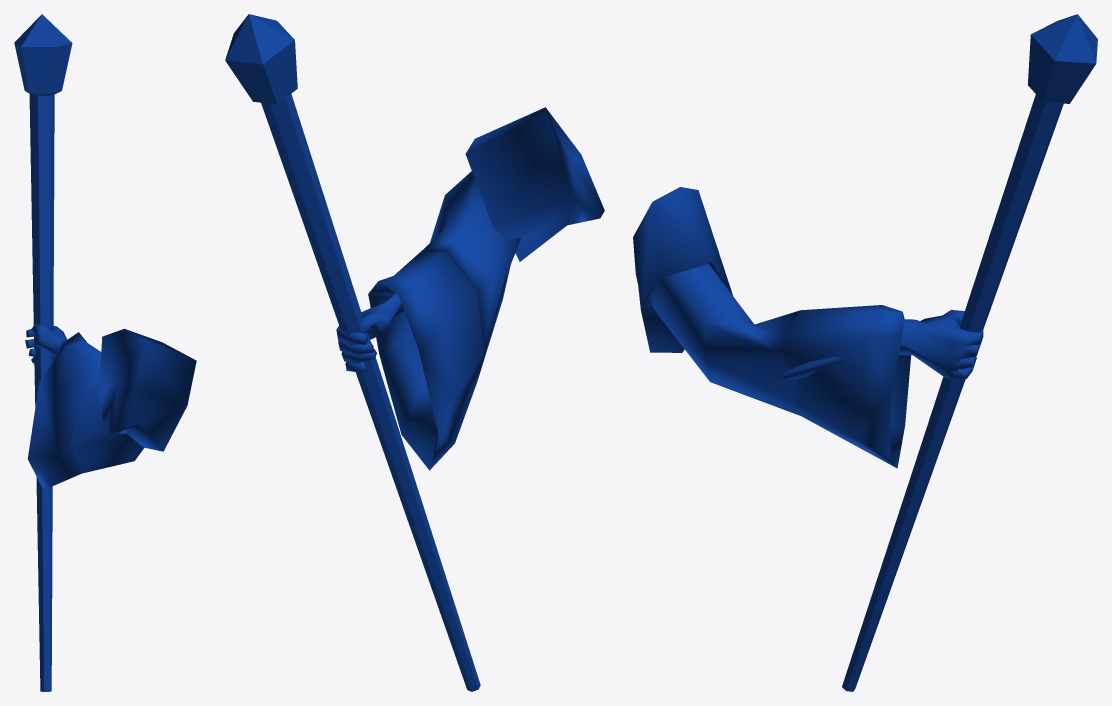
File: arm_000042.obj
The picture shows the model from 3 angles, left to right: view 1: azimuth 30°, elevation 25°; view 2: azimuth 150°, elevation 25°; view 3: azimuth 270°, elevation 25°; orthographic projection. The views are drawn at different scales.
Visible parts, largest first — view 1: Wizard.002_Plane.002; view 2: Wizard.002_Plane.002; view 3: Wizard.002_Plane.002.
Part boxes in pixels (bbox=[...]): Wizard.002_Plane.002: bbox=[14, 14, 196, 691]; Wizard.002_Plane.002: bbox=[225, 14, 604, 691]; Wizard.002_Plane.002: bbox=[633, 14, 1097, 691].
Bounding box in the file's own units: 0.3905 × 1.68 × 0.9694.
